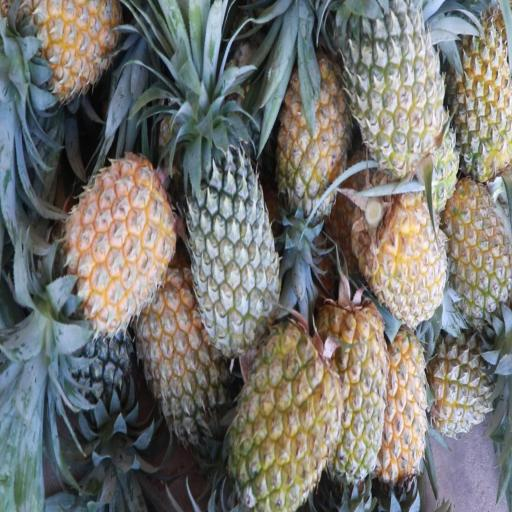------------------------------: (351, 0, 443, 170), (134, 283, 223, 442), (447, 19, 512, 175), (444, 182, 512, 316), (426, 330, 502, 438)
Pineapple - v8 v1: (234, 330, 340, 512), (66, 160, 168, 326), (320, 304, 388, 483), (273, 60, 348, 221), (366, 187, 444, 328), (16, 0, 118, 100), (380, 330, 427, 484)
